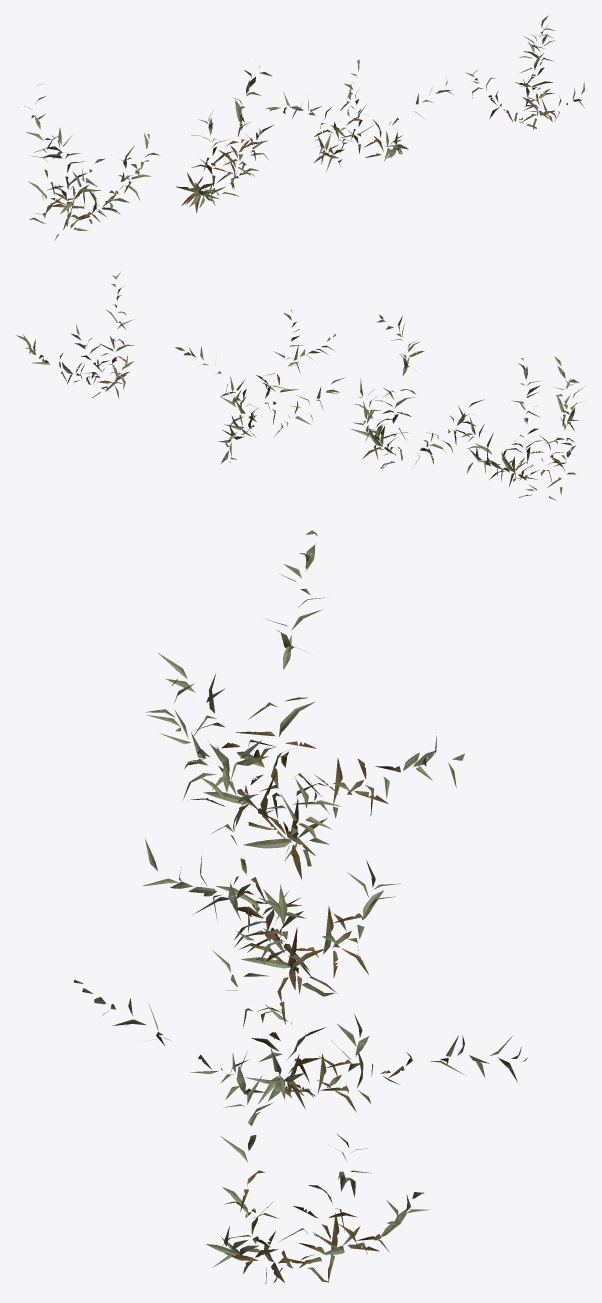
Rendered from shrub_dry_a.glb.
3 views of the same model, one above another, from view 1: azimuth 30°, elevation 25°; view 2: azimuth 150°, elevation 25°; view 3: azimuth 270°, elevation 25° (orthographic). The views are drawn at different scales.
Parts seen in each view (by area): view 1: shrub_02_a, shrub_02_b, shrub_02_c, shrub_02_d; view 2: shrub_02_a, shrub_02_b, shrub_02_c, shrub_02_d; view 3: shrub_02_a, shrub_02_b, shrub_02_c, shrub_02_d.
Part boxes in pixels (x1,y1,x2,y2): shrub_02_a: (24,84,159,240); shrub_02_b: (176,65,273,213); shrub_02_c: (266,59,453,172); shrub_02_d: (465,15,584,129); shrub_02_a: (461,356,584,500); shrub_02_b: (350,314,483,468); shrub_02_c: (175,310,345,463); shrub_02_d: (16,272,134,398); shrub_02_a: (145,530,464,879); shrub_02_b: (142,740,400,1002); shrub_02_c: (73,876,527,1112); shrub_02_d: (206,1053,429,1284).
Bounding box in the file's own units: 6.05 × 1.62 × 2.21.
Materials: 1 (1 with a texture image).
